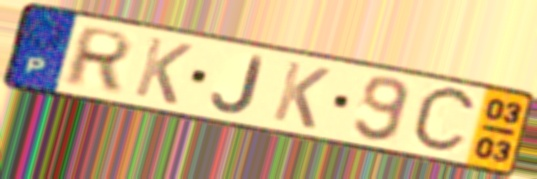9: (351, 75, 411, 146)
C: (407, 84, 481, 156)
J: (210, 53, 267, 116)
K: (130, 34, 196, 108), (268, 58, 334, 132)
R: (58, 24, 137, 94)
